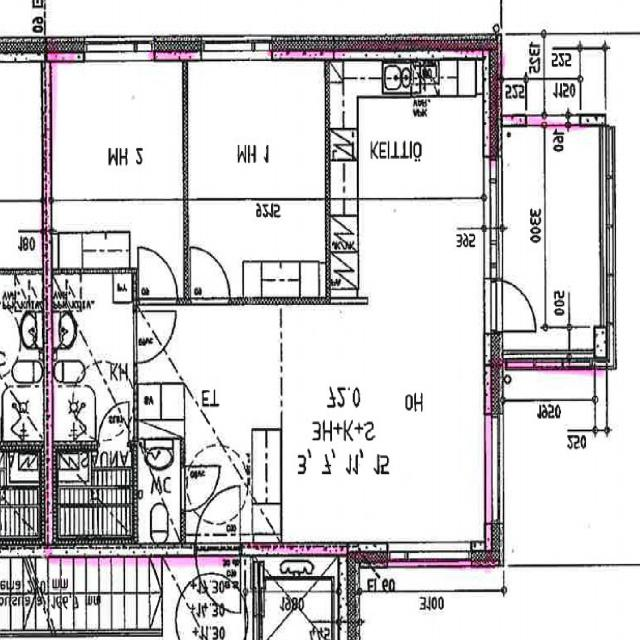door: (196, 483, 240, 555), (196, 542, 240, 614), (484, 282, 542, 332), (132, 311, 177, 362), (191, 247, 230, 304), (140, 248, 178, 304), (181, 465, 220, 511), (98, 401, 129, 449)
